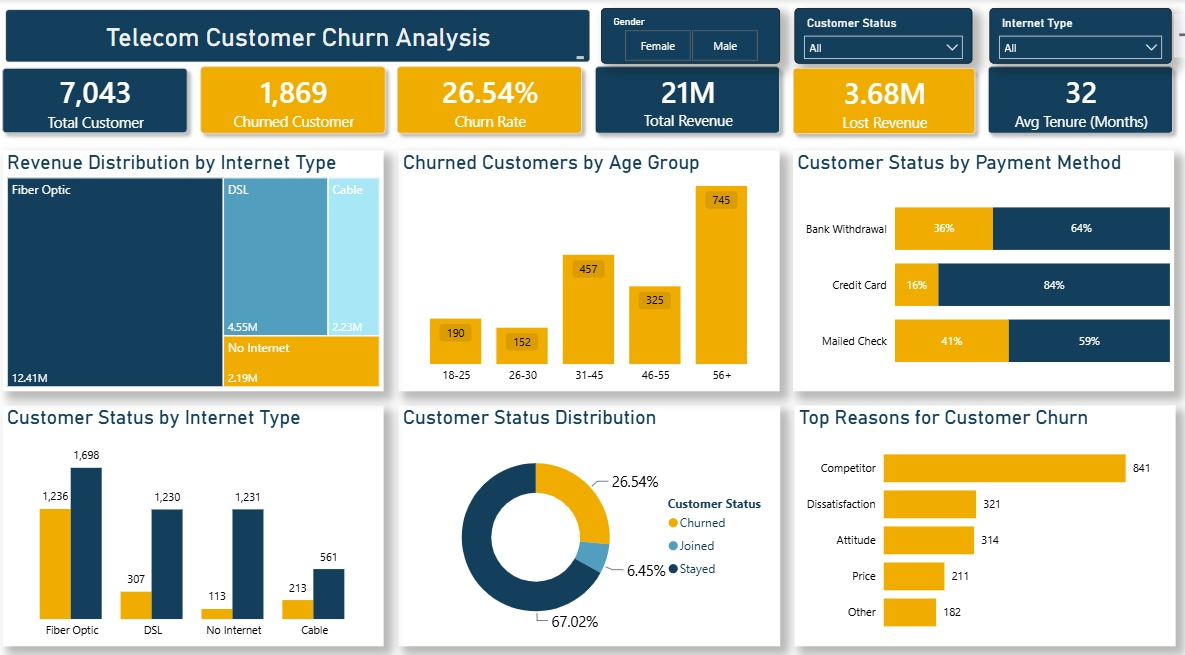

The page's visual inventory and layout, read from the dashboard file:
{"tool":"powerbi","page":{"name":"Dashboard","canvas":[1358,735],"ordinal":0},"visuals":[{"type":"cardVisual","fields":{"Data":["Count(telecom_customer_churn.Customer ID)"]},"box":[0,57.9,240,108],"z":0},{"type":"textbox","title":"Telecom Customer Churn Analysis","box":[20.9,11.2,643.9,57.8],"z":1000},{"type":"cardVisual","fields":{"Data":["telecom_customer_churn.Avg_Tenure_Month"]},"box":[1086,56.9,240,110],"z":2000},{"type":"cardVisual","fields":{"Data":["telecom_customer_churn.Total_Churn_cus"]},"box":[217.6,56.9,240,110],"z":3000},{"type":"cardVisual","fields":{"Data":["telecom_customer_churn.Churn%"]},"box":[435.3,56.5,240,110.8],"z":4000},{"type":"cardVisual","fields":{"Data":["Sum(telecom_customer_churn.Total Revenue)"]},"box":[652.9,56.9,240,110],"z":5000},{"type":"donutChart","title":"Customer Status Distribution","fields":{"Y":["Count(telecom_customer_churn.Customer ID)"],"Series":["telecom_customer_churn.Customer Status"]},"box":[454.2,447.4,420.7,265],"z":6000},{"type":"clusteredColumnChart","title":"Customer Status by Internet Type","fields":{"Category":["telecom_customer_churn.Internet Type"],"Series":["telecom_customer_churn.Customer Status"],"Y":["CountNonNull(telecom_customer_churn.Customer ID)"]},"box":[18.2,447.4,420,265],"z":7000},{"type":"clusteredColumnChart","title":"Churned Customers by Age Group","fields":{"Category":["telecom_customer_churn.Age_Group"],"Y":["CountNonNull(telecom_customer_churn.Customer ID)"],"Series":["telecom_customer_churn.Customer Status"]},"box":[453.7,166.4,420,265],"z":8000},{"type":"slicer","fields":{"Values":["telecom_customer_churn.Gender"]},"box":[677.9,9.6,197.6,61],"z":9000},{"type":"slicer","fields":{"Values":["telecom_customer_churn.Customer Status"]},"box":[891.2,9.6,196,61],"z":10000},{"type":"slicer","fields":{"Values":["telecom_customer_churn.Internet Type"]},"box":[1105.3,9.6,200.8,61],"z":11000},{"type":"hundredPercentStackedBarChart","title":"Customer Status by Payment Method","fields":{"Category":["telecom_customer_churn.Payment Method"],"Y":["CountNonNull(telecom_customer_churn.Customer ID)"],"Series":["telecom_customer_churn.Customer Status"]},"box":[889.3,166.4,420,265.1],"z":12000},{"type":"actionButton","box":[1309.3,16.1,36.9,48.2],"z":13000},{"type":"cardVisual","fields":{"Data":["telecom_customer_churn.Lost Revenue"]},"box":[870.6,57.2,237.8,109.2],"z":14000},{"type":"clusteredBarChart","title":"Top Reasons for Customer Churn","fields":{"Y":["CountNonNull(telecom_customer_churn.Customer ID)"],"Category":["telecom_customer_churn.Churn Category"]},"box":[890.9,447.4,420,265],"z":15000},{"type":"treemap","title":"Revenue Distribution by Internet Type","fields":{"Group":["telecom_customer_churn.Internet Type"],"Values":["Sum(telecom_customer_churn.Total Revenue)"]},"box":[18.2,166.4,420,265.1],"z":16000}]}

Visuals, with their boxes in screenshot pixels (x1, y1, x2, y2), scaled from the page's 1358x735 canvas onto the 1185x655 screenshot:
cardVisual - Count(telecom_customer_churn.Customer ID): bbox=[0, 52, 209, 148]
"Telecom Customer Churn Analysis" textbox: bbox=[18, 10, 580, 61]
cardVisual - telecom_customer_churn.Avg_Tenure_Month: bbox=[948, 51, 1157, 149]
cardVisual - telecom_customer_churn.Total_Churn_cus: bbox=[190, 51, 399, 149]
cardVisual - telecom_customer_churn.Churn%: bbox=[380, 50, 589, 149]
cardVisual - Sum(telecom_customer_churn.Total Revenue): bbox=[570, 51, 779, 149]
"Customer Status Distribution" donutChart: bbox=[396, 399, 763, 635]
"Customer Status by Internet Type" clusteredColumnChart: bbox=[16, 399, 382, 635]
"Churned Customers by Age Group" clusteredColumnChart: bbox=[396, 148, 762, 384]
slicer - telecom_customer_churn.Gender: bbox=[592, 9, 764, 63]
slicer - telecom_customer_churn.Customer Status: bbox=[778, 9, 949, 63]
slicer - telecom_customer_churn.Internet Type: bbox=[964, 9, 1140, 63]
"Customer Status by Payment Method" hundredPercentStackedBarChart: bbox=[776, 148, 1143, 385]
actionButton: bbox=[1143, 14, 1175, 57]
cardVisual - telecom_customer_churn.Lost Revenue: bbox=[760, 51, 967, 148]
"Top Reasons for Customer Churn" clusteredBarChart: bbox=[777, 399, 1144, 635]
"Revenue Distribution by Internet Type" treemap: bbox=[16, 148, 382, 385]
